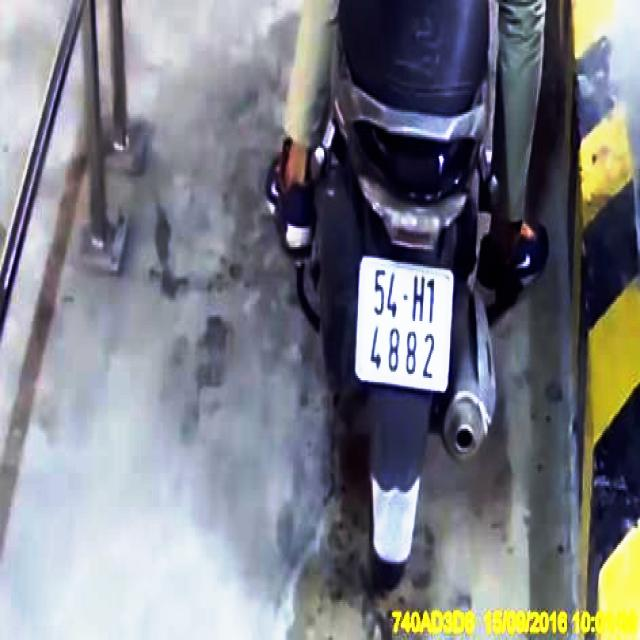license_plate: (356, 259, 455, 386)
